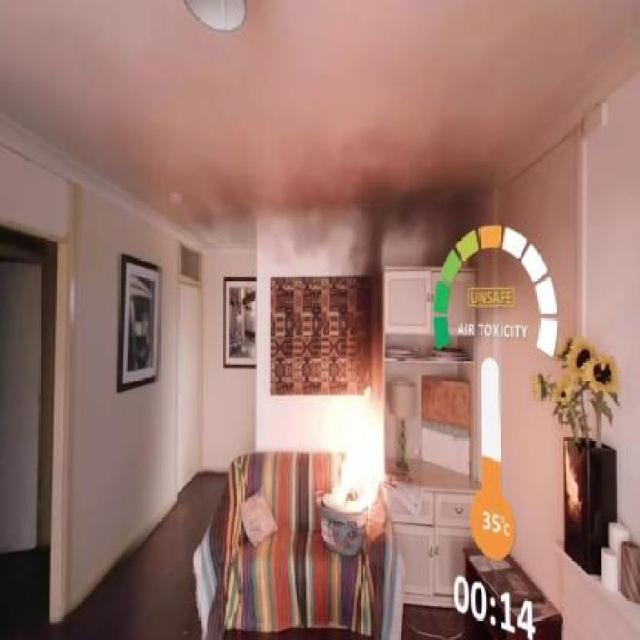fire: (298, 377, 393, 556)
